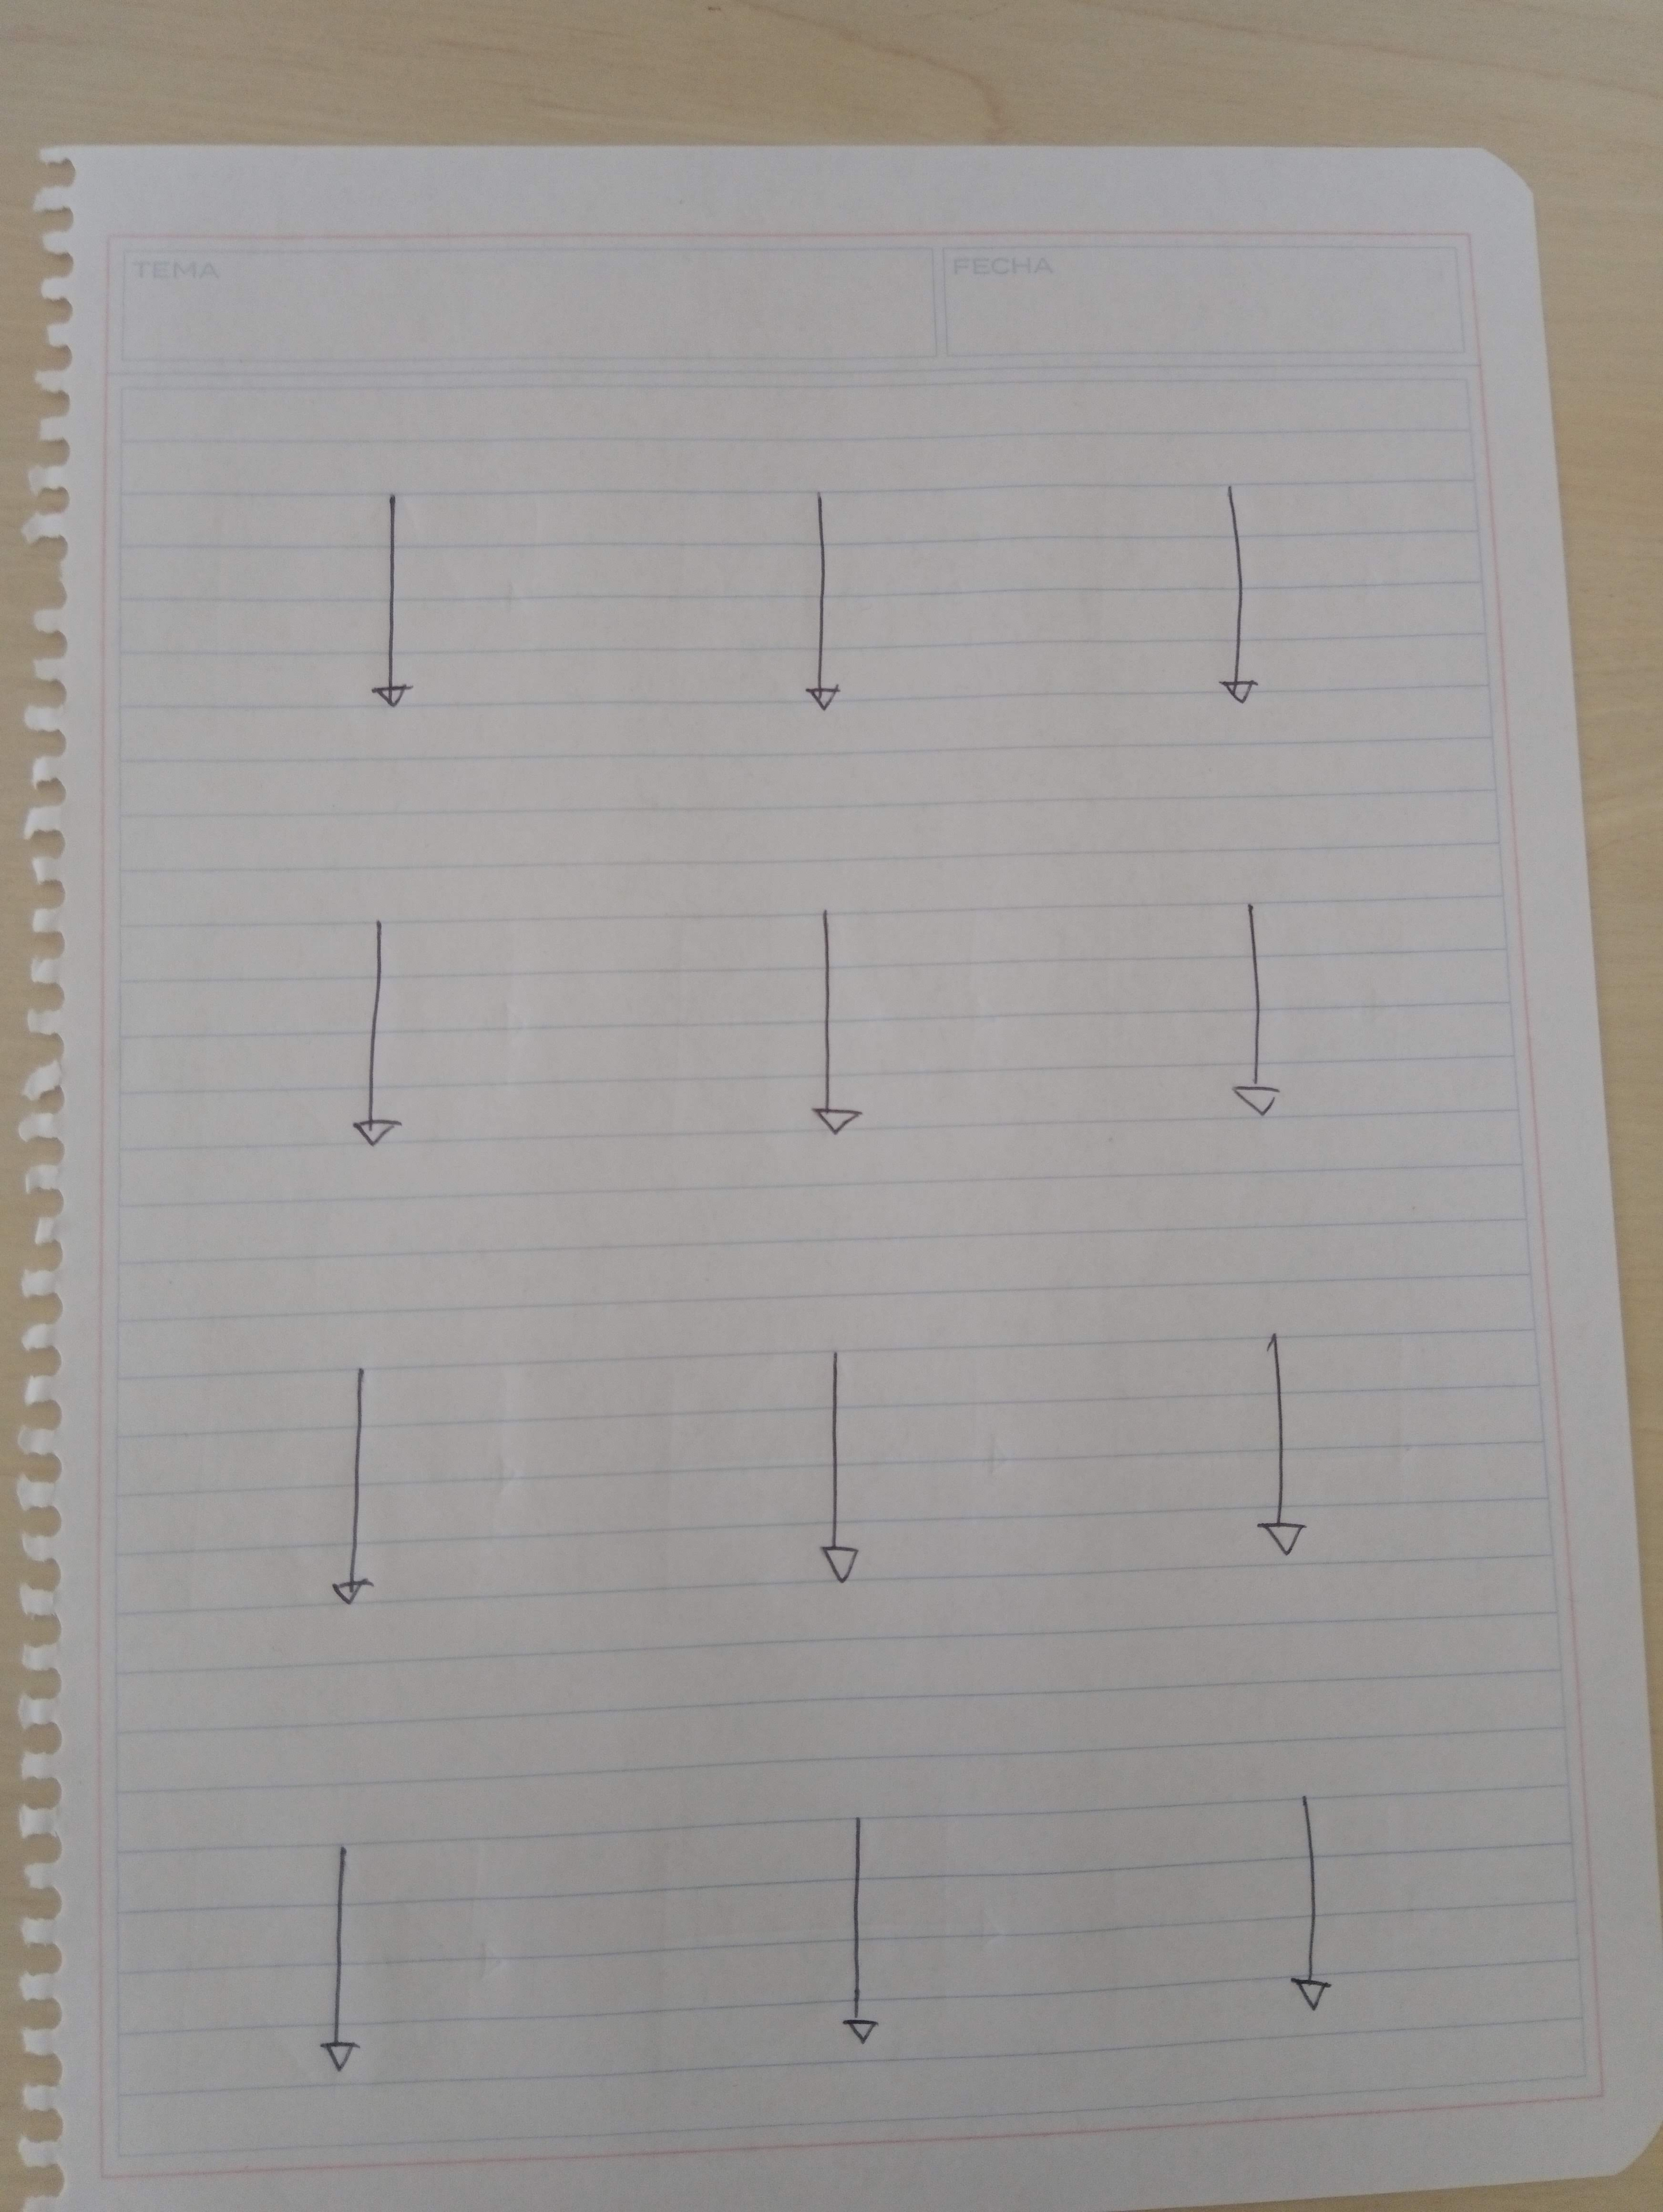arrow_line_down: (770, 911, 900, 1142), (763, 487, 884, 732), (783, 1355, 900, 1597), (297, 1358, 404, 1615), (323, 918, 426, 1171), (346, 487, 444, 738), (1207, 487, 1298, 728), (826, 1795, 900, 2064), (1280, 1770, 1354, 2027), (1240, 1341, 1321, 1564), (1211, 908, 1291, 1128), (327, 1851, 370, 2104)
